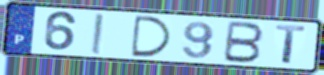6: (43, 10, 78, 54)
9: (180, 20, 215, 59)
B: (221, 20, 267, 65)
D: (130, 14, 174, 59)
I: (90, 12, 105, 56)
T: (274, 23, 308, 66)
